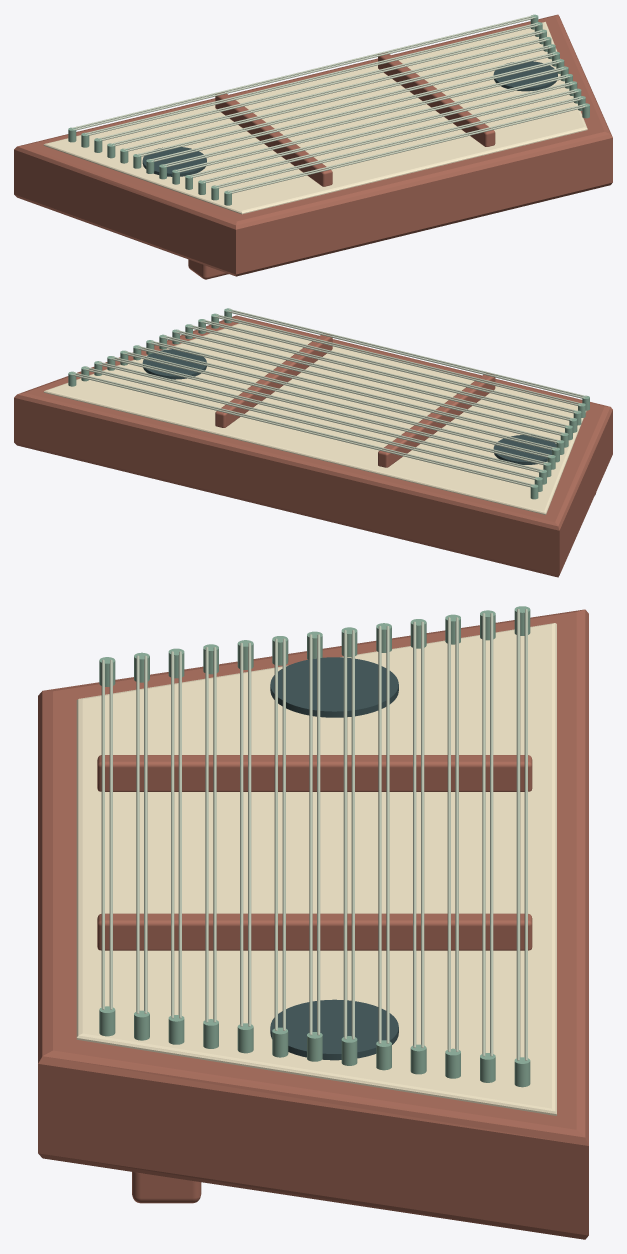
Rendered from enchanted-harp-garden-and-music-sanctuary-hammered-dul-88ed9814__30414.glb.
3 renders of one model, top to bottom at view 1: azimuth 30°, elevation 25°; view 2: azimuth 150°, elevation 25°; view 3: azimuth 270°, elevation 25°, orthographic. The views are drawn at different scales.
Visible parts, largest first — view 1: hammered-dulcimer; view 2: hammered-dulcimer; view 3: hammered-dulcimer.
Part boxes in pixels (x1,y1,x2,y2): hammered-dulcimer: (14, 14, 612, 279); hammered-dulcimer: (14, 308, 612, 577); hammered-dulcimer: (38, 606, 588, 1239).
Bounding box in the file's own units: 1.27 × 0.2007 × 0.5573.
